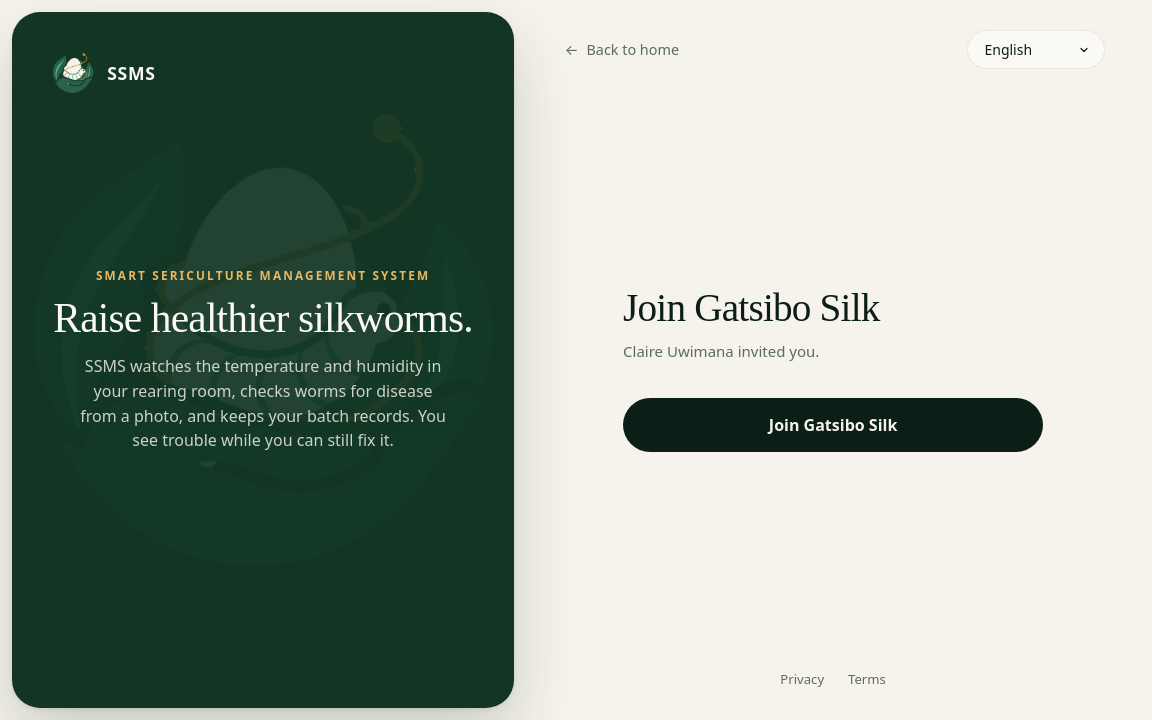
Scenario: Join page, signed in › shows the server answer when the link was meant for another address
Click the button "Join Gatsibo Silk" at point(833, 424), box x1=623 y1=398 x2=1043 y2=452
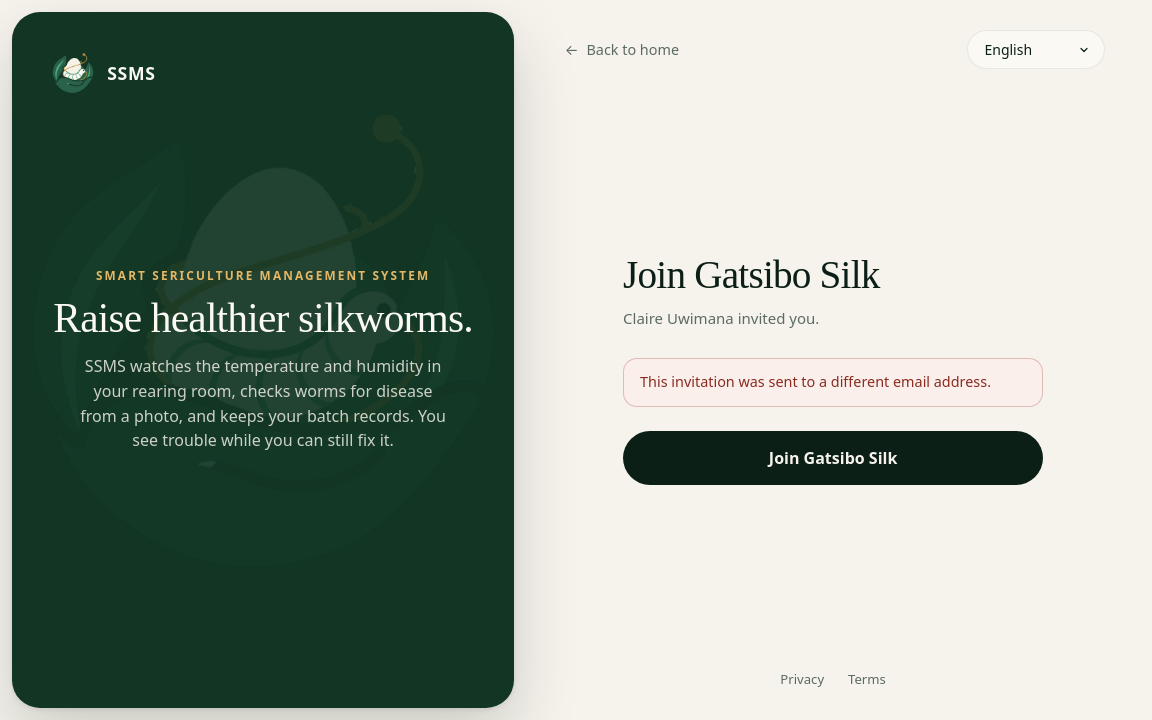
Now the message reads "This invitation was sent to a different email address.", box x1=640 y1=372 x2=991 y2=391
